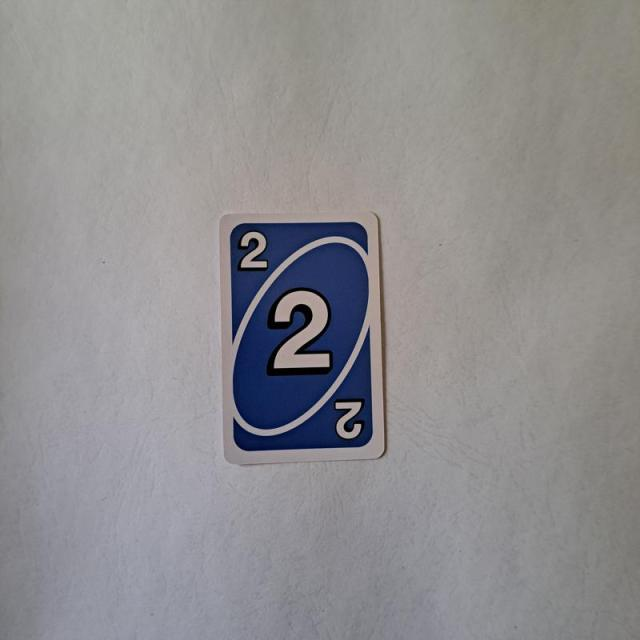Blue_Card: (227, 218, 379, 454)
Number_2: (235, 223, 270, 278)
